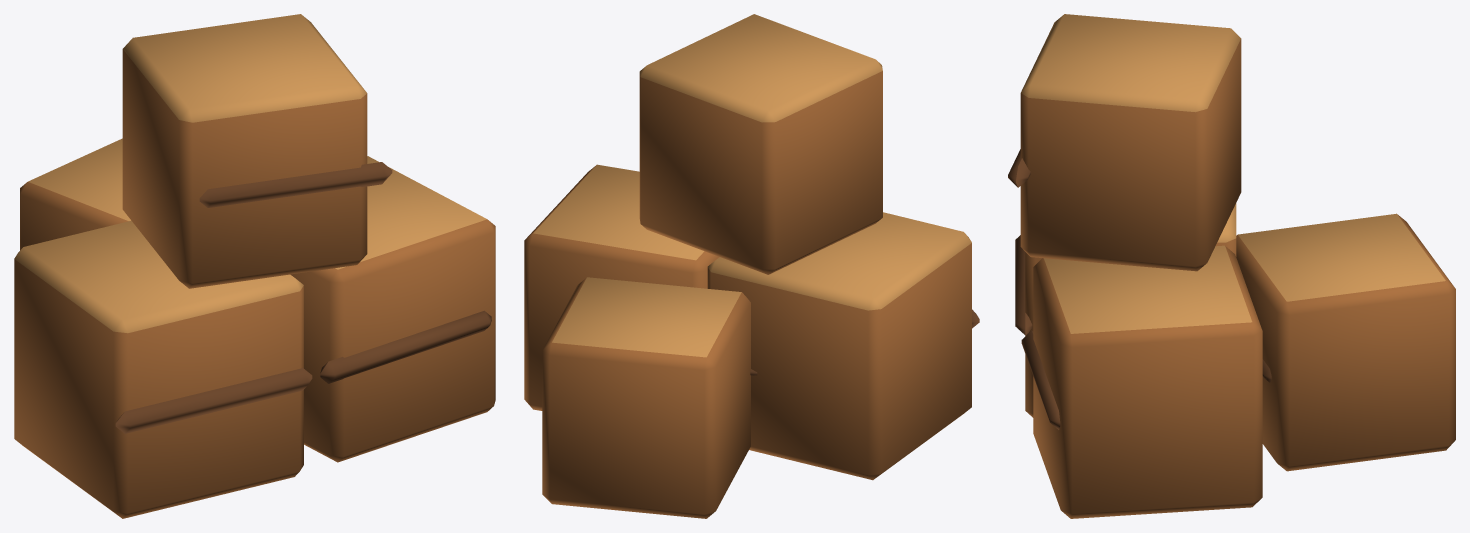
File: P_MedCrateStack.fbx
3 renders of one model, left to right at view 1: azimuth 30°, elevation 25°; view 2: azimuth 150°, elevation 25°; view 3: azimuth 270°, elevation 25°, orthographic. The views are drawn at different scales.
Visible parts, largest first — view 1: M_CrateStack; view 2: M_CrateStack; view 3: M_CrateStack.
Boxes of the visible parts, x1=… form: M_CrateStack: x1=14, y1=14, x2=495, y2=518; M_CrateStack: x1=524, y1=14, x2=979, y2=518; M_CrateStack: x1=1008, y1=14, x2=1455, y2=518.
Bounding box in the file's own units: 1.32 × 1.18 × 1.32.
Materials: 1 (1 with a texture image).
